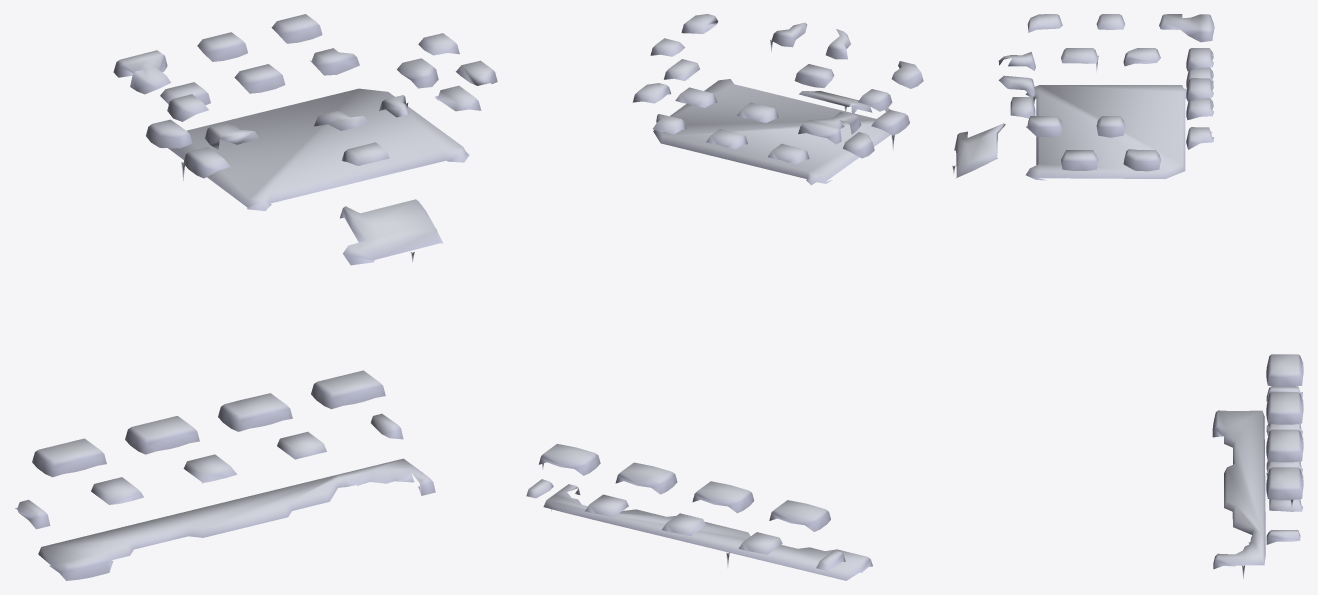
File: hall.wallet.t4.snow.glb
3 views of the same model, side by side, from view 1: azimuth 30°, elevation 25°; view 2: azimuth 150°, elevation 25°; view 3: azimuth 270°, elevation 25° (orthographic). The views are drawn at different scales.
Visible parts, largest first — view 1: snow; view 2: snow; view 3: snow.
Boxes of the visible parts, x1,y1,x2,y2 form: snow: [15, 14, 497, 580]; snow: [526, 14, 923, 580]; snow: [952, 14, 1303, 579].
Size of the model in its own units: 4.04 by 5.46 by 3.94.
